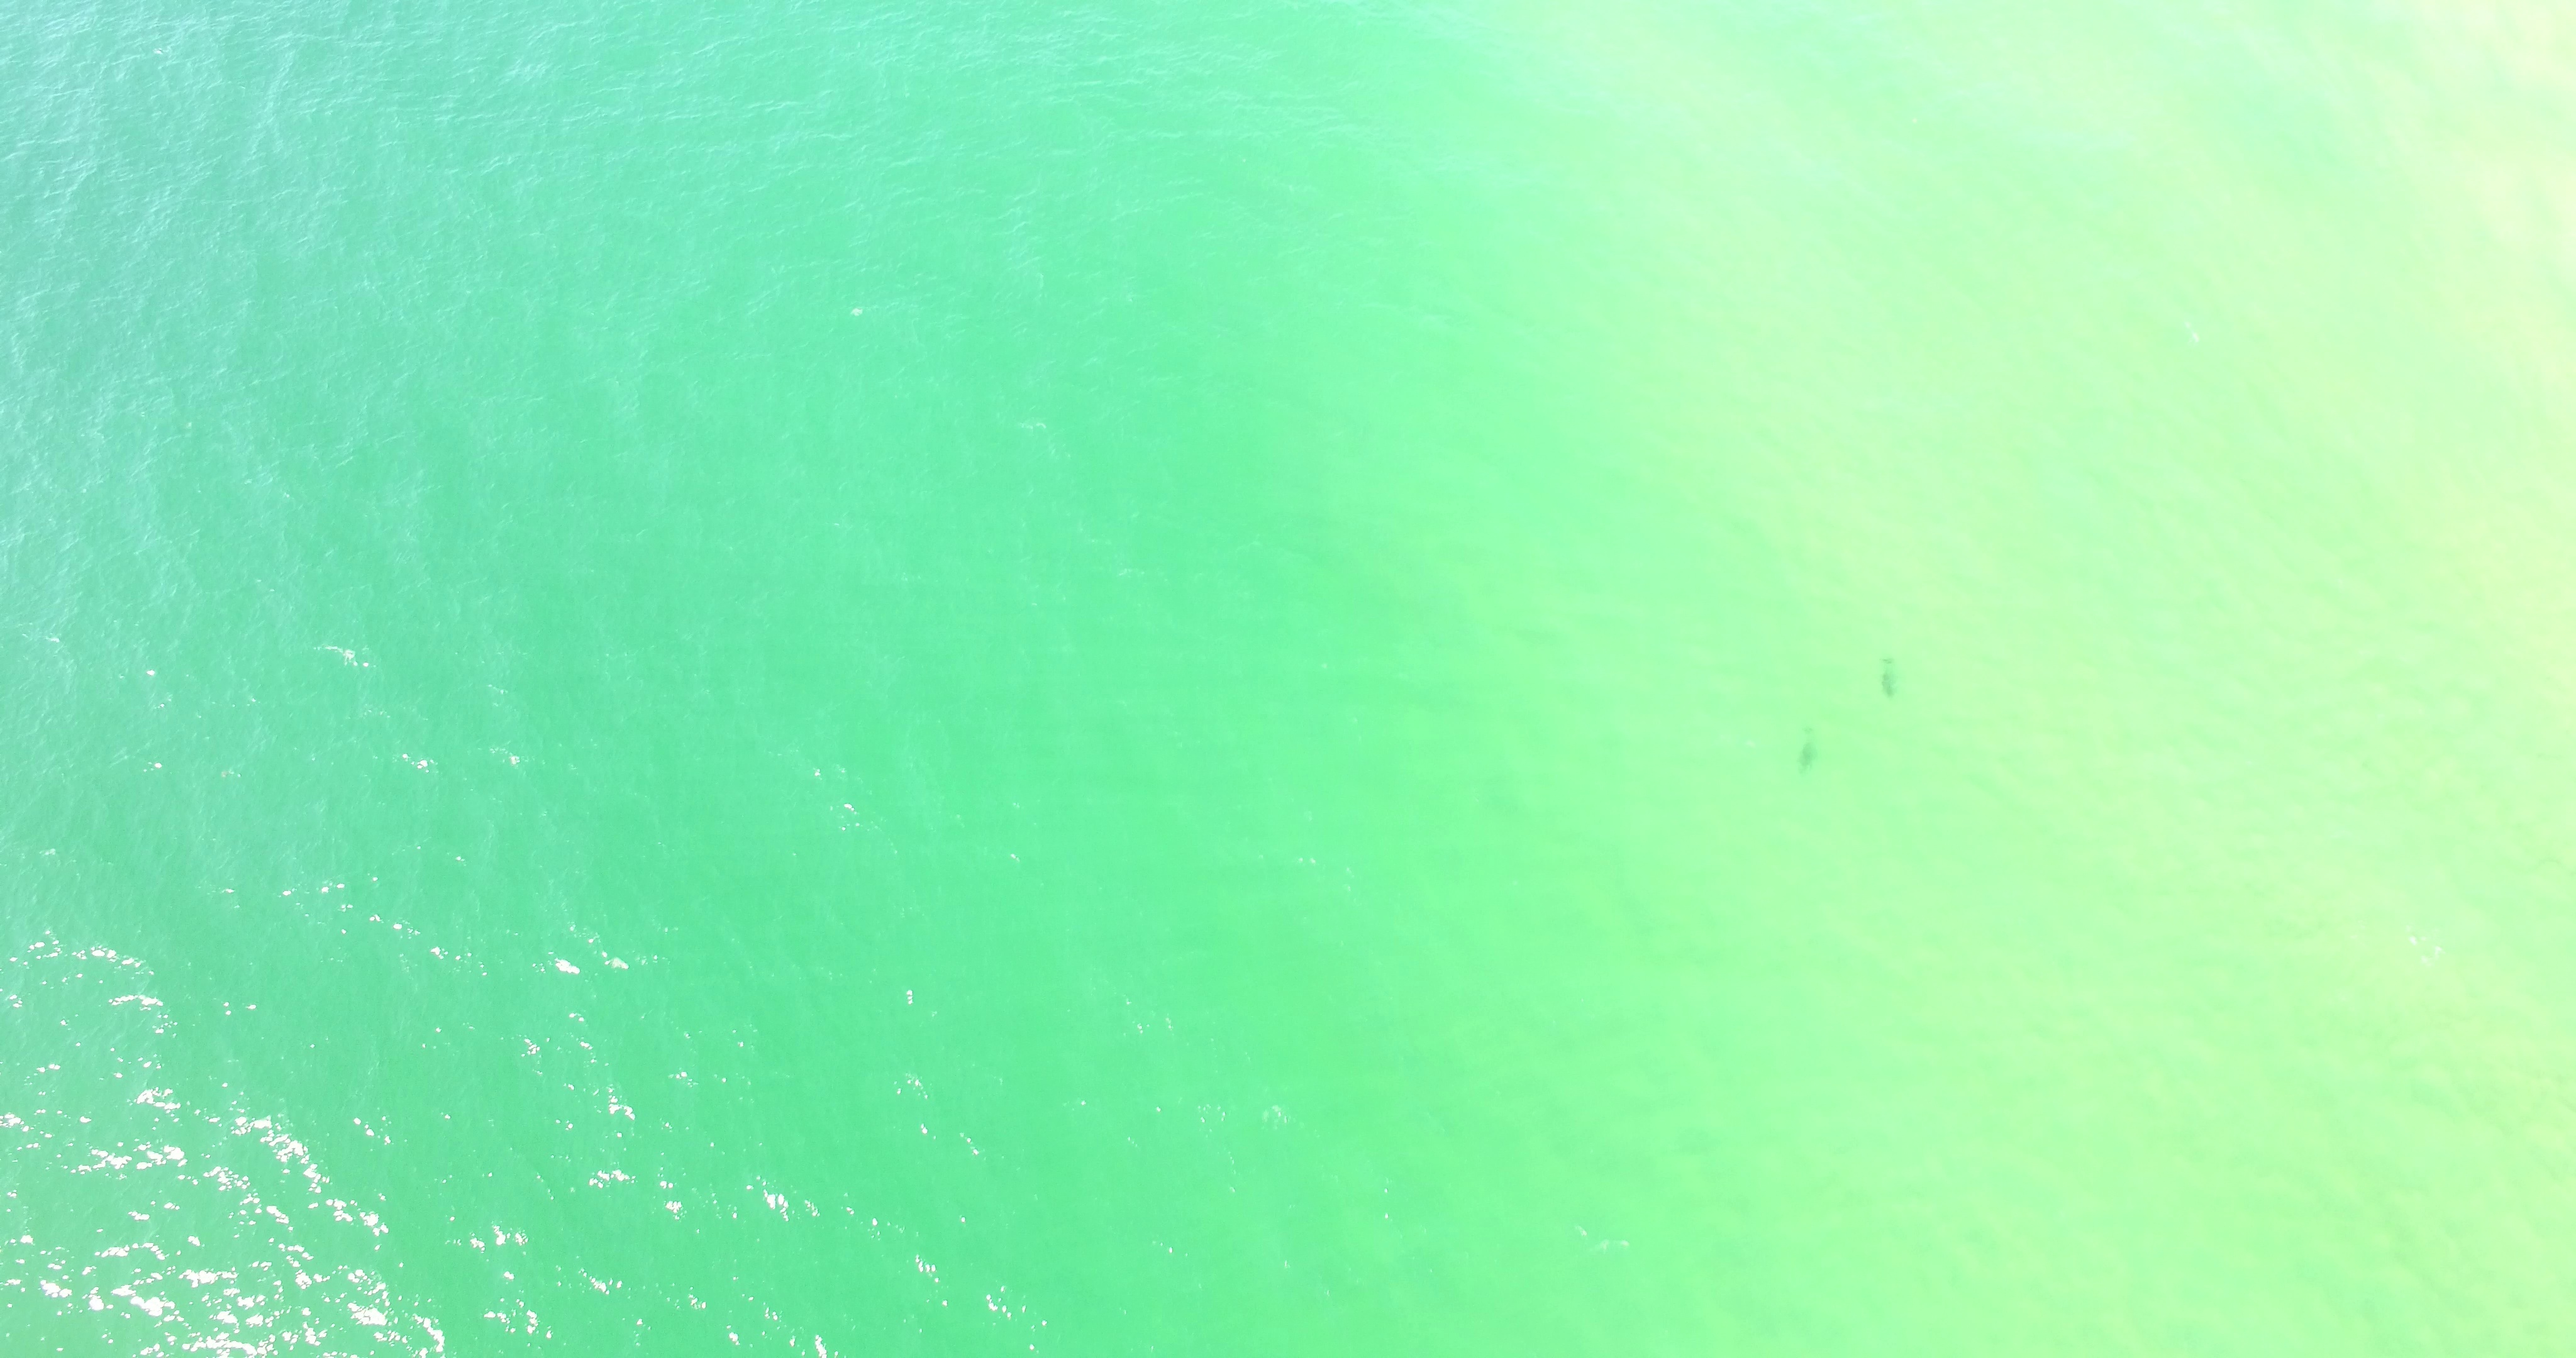dolphin: (1799, 724, 1820, 772), (1881, 654, 1896, 700)
